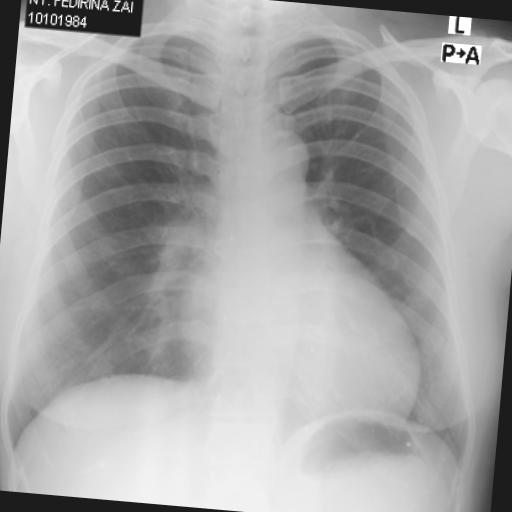kardiomegali: (0, 0, 511, 487)
